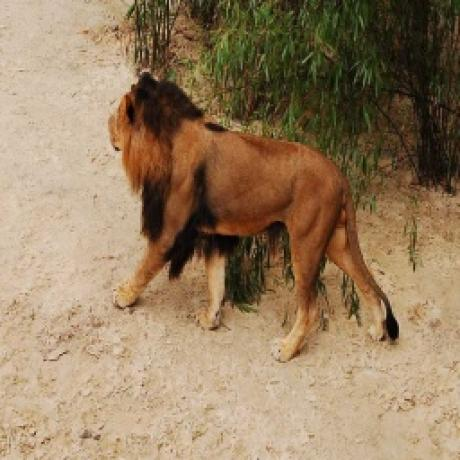Lion: (101, 64, 407, 360)
